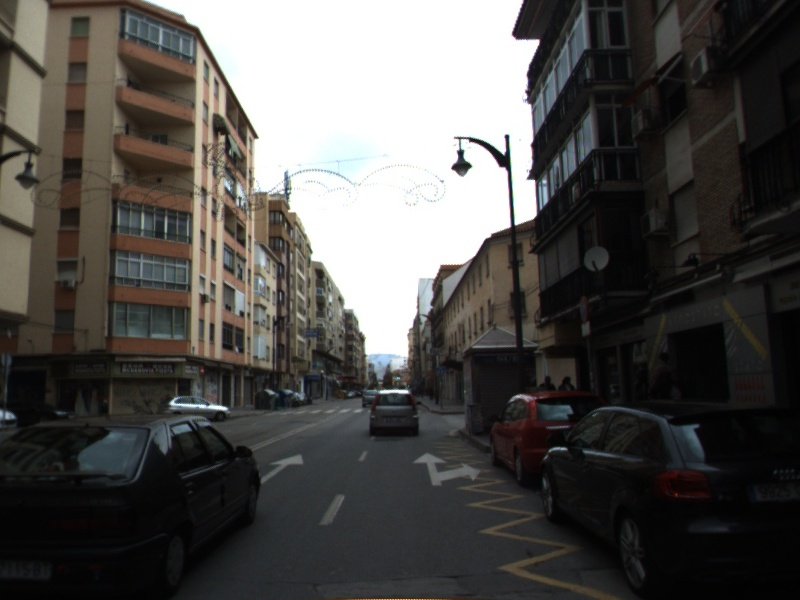STRAIGHT: (258, 452, 305, 484)
STRAIGHT_RIGHT: (410, 450, 483, 488)
